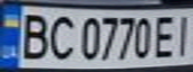0: (75, 12, 103, 61), (133, 13, 154, 60)
7: (97, 14, 118, 61), (118, 14, 136, 61)
B: (12, 9, 51, 61)
C: (45, 11, 78, 62)
E: (151, 12, 181, 60)
I: (172, 11, 193, 57)
